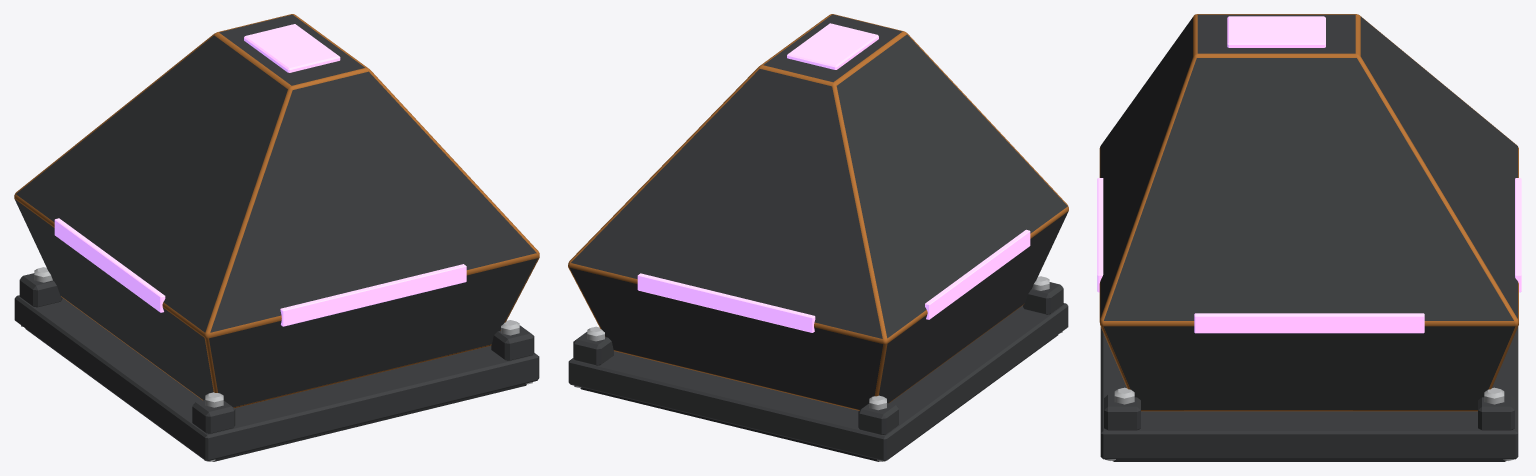
Rendered from R4X_Stealth.fbx.
The picture shows the model from 3 angles, left to right: view 1: azimuth 30°, elevation 25°; view 2: azimuth 150°, elevation 25°; view 3: azimuth 270°, elevation 25°; orthographic projection. The views are drawn at different scales.
Visible parts, largest first — view 1: R4X_Stealth_Body; view 2: R4X_Stealth_Body; view 3: R4X_Stealth_Body.
Part boxes in pixels (left/top/right/bottom): R4X_Stealth_Body: left=14, top=14, right=539, bottom=461; R4X_Stealth_Body: left=568, top=14, right=1068, bottom=461; R4X_Stealth_Body: left=1097, top=14, right=1521, bottom=461.
Bounding box in the file's own units: 0.516 × 0.466 × 0.516.
